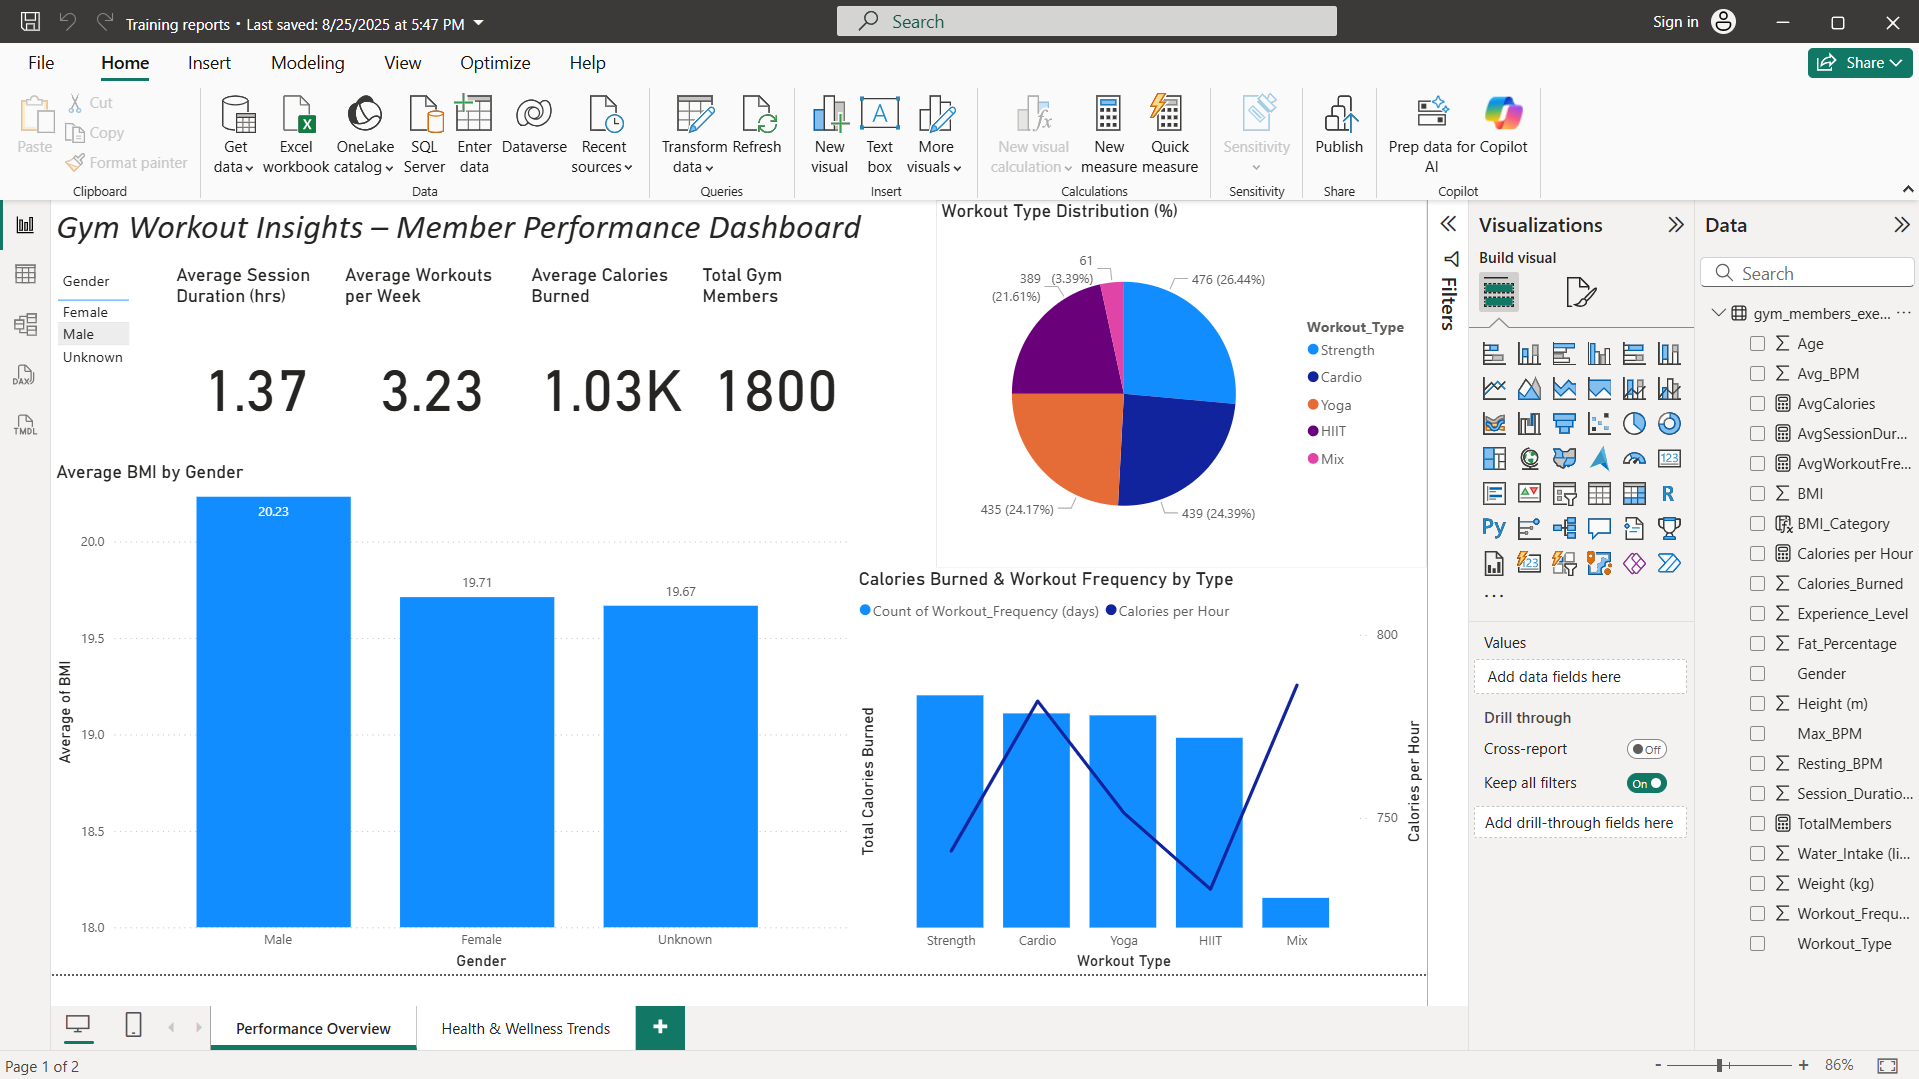

What the dashboard file says about the page in this screenshot:
{"tool":"powerbi","page":{"name":"Performance Overview","canvas":[1280,720],"ordinal":0},"visuals":[{"type":"card","title":"Total Gym Members","fields":{"Values":["gym_members_exercise_tracking_synthetic_data.TotalMembers"]},"box":[601,59,145.5,183.9],"z":1000},{"type":"card","title":"Average Calories Burned","fields":{"Values":["gym_members_exercise_tracking_synthetic_data.AvgCalories"]},"box":[441.9,59,159.2,183.9],"z":2000},{"type":"card","title":"Average Workouts per Week","fields":{"Values":["gym_members_exercise_tracking_synthetic_data.AvgWorkoutFrequency"]},"box":[269,59,172.9,183.9],"z":3000},{"type":"card","title":"Average Session Duration (hrs)","fields":{"Values":["gym_members_exercise_tracking_synthetic_data.AvgSessionDuration"]},"box":[111.1,59,157.8,183.9],"z":4000},{"type":"tableEx","fields":{"Values":["gym_members_exercise_tracking_synthetic_data.Gender"]},"box":[0,59,111.1,183.9],"z":5000},{"type":"pieChart","title":"Workout Type Distribution (%)","fields":{"Category":["gym_members_exercise_tracking_synthetic_data.Workout_Type"],"Y":["CountNonNull(gym_members_exercise_tracking_synthetic_data.Workout_Frequency (days/week))"]},"box":[823.3,0,456.9,341.7],"z":6000},{"type":"lineClusteredColumnComboChart","title":"Calories Burned & Workout Frequency by Type","fields":{"Category":["gym_members_exercise_tracking_synthetic_data.Workout_Type"],"Y2":["gym_members_exercise_tracking_synthetic_data.Calories per Hour"],"Y":["CountNonNull(gym_members_exercise_tracking_synthetic_data.Workout_Frequency (days))"]},"box":[746.5,341.7,533.8,378.7],"z":7000},{"type":"textbox","box":[0,0,772.6,59],"z":8000},{"type":"clusteredColumnChart","title":"Average BMI by Gender","fields":{"Category":["gym_members_exercise_tracking_synthetic_data.Gender"],"Y":["Avg(gym_members_exercise_tracking_synthetic_data.BMI)"]},"box":[0,242.9,746.5,477.5],"z":9000}]}

Visuals, with their boxes on the page's 1280x720 design canvas (x1, y1, x2, y2). These are canvas units, not pixel positions in the 1919x1079 screenshot, which may show the page scaled, cropped or inside an application window:
"Total Gym Members" card: select_region(601, 59, 746, 243)
"Average Calories Burned" card: select_region(442, 59, 601, 243)
"Average Workouts per Week" card: select_region(269, 59, 442, 243)
"Average Session Duration (hrs)" card: select_region(111, 59, 269, 243)
tableEx - gym_members_exercise_tracking_synthetic_data.Gender: select_region(0, 59, 111, 243)
"Workout Type Distribution (%)" pieChart: select_region(823, 0, 1280, 342)
"Calories Burned & Workout Frequency by Type" lineClusteredColumnComboChart: select_region(746, 342, 1280, 720)
textbox: select_region(0, 0, 773, 59)
"Average BMI by Gender" clusteredColumnChart: select_region(0, 243, 746, 720)
